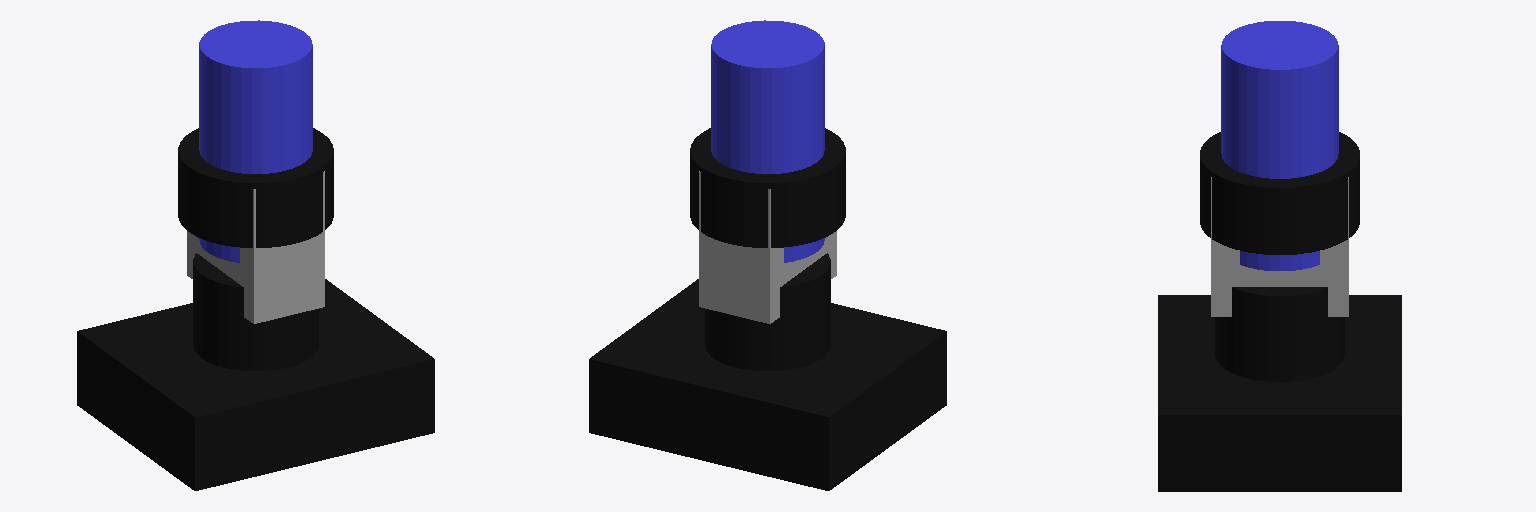
robot.urdf — evolved_robot:
<?xml version="1.0"?>
<robot name="evolved_robot">
  <material name="metal">
    <color rgba="0.7 0.7 0.7 1.0"/>
  </material>
  <material name="plastic">
    <color rgba="0.3 0.3 0.9 1.0"/>
  </material>
  <material name="rubber">
    <color rgba="0.1 0.1 0.1 1.0"/>
  </material>
  <material name="red">
    <color rgba="1.0 0.0 0.0 1.0"/>
  </material>
  <material name="wheel_material">
    <color rgba="0.2 0.2 0.2 1.0"/>
  </material>
  <link name="base_link">
    <visual>
      <geometry><box size="0.30973124463305235 0.2637592270063851 0.09137525855552422"/></geometry>
      <material name="rubber"/>
    </visual>
    <collision>
      <geometry><box size="0.30973124463305235 0.2637592270063851 0.09137525855552422"/></geometry>
    </collision>
    <inertial>
      <mass value="5.0"/>
      <inertia ixx="0.06493197308924557" ixy="0" ixz="0" 
               iyy="0.08690240148169052" iyz="0" 
               izz="0.1379186447774546"/>
    </inertial>
  </link>
  <link name="link1">
    <visual>
      <geometry><cylinder radius="0.07022127573045568" length="0.20604416309823792"/></geometry>
      <material name="rubber"/>
    </visual>
    <collision>
      <geometry><cylinder radius="0.07022127573045568" length="0.20604416309823792"/></geometry>
    </collision>
    <inertial>
      <mass value="0.5"/>
      <inertia ixx="0.004770606653540944" ixy="0" ixz="0" 
               iyy="0.004770606653540944" iyz="0" 
               izz="0.002465513782606342"/>
    </inertial>
  </link>
  <joint name="joint1" type="prismatic">
    <parent link="base_link"/>
    <child link="link1"/>
    <origin xyz="0 0 0.04568762927776211" rpy="0 0 0"/>
    <axis xyz="-0.6712321116053033 -0.10920155303055626 0.7331592413422886"/>
    <dynamics damping="0.4036131886502018" friction="0.1"/>
    <limit lower="-0.45198415874903025" upper="0.2996938549239752" effort="100" velocity="100"/>
  </joint>
  <link name="link2">
    <visual>
      <geometry><sphere radius="0.04774140146365198"/></geometry>
      <material name="rubber"/>
    </visual>
    <collision>
      <geometry><sphere radius="0.04774140146365198"/></geometry>
    </collision>
    <inertial>
      <mass value="0.5"/>
      <inertia ixx="0.0009116965654854366" ixy="0" ixz="0" 
               iyy="0.0009116965654854366" iyz="0" 
               izz="0.0009116965654854366"/>
    </inertial>
  </link>
  <joint name="joint2" type="fixed">
    <parent link="base_link"/>
    <child link="link2"/>
    <origin xyz="0 0 0.09568762927776212" rpy="0 0 0"/>
    <axis xyz="0.7994870752066272 -0.3189058024417348 -0.5090378234930545"/>
    <dynamics damping="0.32429681390972" friction="0.1"/>
  </joint>
  <link name="link3">
    <visual>
      <geometry><cylinder radius="0.037788071872525975" length="0.055289034378760475"/></geometry>
      <material name="plastic"/>
    </visual>
    <collision>
      <geometry><cylinder radius="0.037788071872525975" length="0.055289034378760475"/></geometry>
    </collision>
    <inertial>
      <mass value="0.5"/>
      <inertia ixx="0.000611724370838777" ixy="0" ixz="0" 
               iyy="0.000611724370838777" iyz="0" 
               izz="0.0007139691879215944"/>
    </inertial>
  </link>
  <joint name="joint3" type="fixed">
    <parent link="base_link"/>
    <child link="link3"/>
    <origin xyz="0 0 0.14568762927776213" rpy="0 0 0"/>
    <axis xyz="0.885884819037277 -0.14288856271358436 0.44135127284843867"/>
    <dynamics damping="0.6617432306237528" friction="0.1"/>
  </joint>
  <link name="link4">
    <visual>
      <geometry><box size="0.09246010463648308 0.15026105879309354 0.16692978989059037"/></geometry>
      <material name="metal"/>
    </visual>
    <collision>
      <geometry><box size="0.09246010463648308 0.15026105879309354 0.16692978989059037"/></geometry>
    </collision>
    <inertial>
      <mass value="0.5"/>
      <inertia ixx="0.00420366171187818" ixy="0" ixz="0" 
               iyy="0.0030345354751921704" iyz="0" 
               izz="0.002593938061584243"/>
    </inertial>
  </link>
  <joint name="joint4" type="revolute">
    <parent link="base_link"/>
    <child link="link4"/>
    <origin xyz="0 0 0.19568762927776212" rpy="0 0 0"/>
    <axis xyz="0.7103423009173693 -0.46365404839060986 -0.5295646692694062"/>
    <dynamics damping="0.3040877062144236" friction="0.1"/>
    <limit lower="-1.5929920037548284" upper="2.0410000000000004" effort="100" velocity="100"/>
  </joint>
  <link name="link5">
    <visual>
      <geometry><cylinder radius="0.08721994617563467" length="0.0802752767765072"/></geometry>
      <material name="rubber"/>
    </visual>
    <collision>
      <geometry><cylinder radius="0.08721994617563467" length="0.0802752767765072"/></geometry>
    </collision>
    <inertial>
      <mass value="0.5"/>
      <inertia ixx="0.002438839757848888" ixy="0" ixz="0" 
               iyy="0.002438839757848888" iyz="0" 
               izz="0.0038036595054403042"/>
    </inertial>
  </link>
  <joint name="joint5" type="prismatic">
    <parent link="base_link"/>
    <child link="link5"/>
    <origin xyz="0 0 0.2456876292777621" rpy="0 0 0"/>
    <axis xyz="-0.832632235254255 0.0 0.5538262911920153"/>
    <dynamics damping="0.3192390020596607" friction="0.1"/>
    <limit lower="-3.0024683931493623" upper="0.31400000000000006" effort="100" velocity="100"/>
  </joint>
  <link name="link6">
    <visual>
      <geometry><cylinder radius="0.06346534658035433" length="0.24130320195547167"/></geometry>
      <material name="plastic"/>
    </visual>
    <collision>
      <geometry><cylinder radius="0.06346534658035433" length="0.24130320195547167"/></geometry>
    </collision>
    <inertial>
      <mass value="0.5"/>
      <inertia ixx="0.005859232160304719" ixy="0" ixz="0" 
               iyy="0.005859232160304719" iyz="0" 
               izz="0.002013925108282246"/>
    </inertial>
  </link>
  <joint name="joint6" type="fixed">
    <parent link="base_link"/>
    <child link="link6"/>
    <origin xyz="0 0 0.2956876292777621" rpy="0 0 0"/>
    <axis xyz="0.6305133116292092 0.1405575344390185 0.7633456251075208"/>
    <dynamics damping="0.2025334459637101" friction="0.1"/>
  </joint>
  <link name="link7">
    <visual>
      <geometry><sphere radius="0.05156707607986047"/></geometry>
      <material name="plastic"/>
    </visual>
    <collision>
      <geometry><sphere radius="0.05156707607986047"/></geometry>
    </collision>
    <inertial>
      <mass value="0.5"/>
      <inertia ixx="0.001063665334170447" ixy="0" ixz="0" 
               iyy="0.001063665334170447" iyz="0" 
               izz="0.001063665334170447"/>
    </inertial>
  </link>
  <joint name="joint7" type="fixed">
    <parent link="base_link"/>
    <child link="link7"/>
    <origin xyz="0 0 0.34568762927776214" rpy="0 0 0"/>
    <axis xyz="-0.9362728796917996 0.050194514128967964 -0.3476688158362522"/>
    <dynamics damping="0.1" friction="0.1"/>
  </joint>
</robot>

--- What the picture shows (computed from the rendered views, not written in the file) ---
The picture shows the robot from 3 angles, left to right: view 1: azimuth 30°, elevation 25°; view 2: azimuth 150°, elevation 25°; view 3: azimuth 270°, elevation 25°; orthographic projection.
Model evolved_robot with 8 links and 7 joints (1 revolute, 2 prismatic, 4 fixed), rooted at base_link, posed every joint at zero.
Visible links, largest first — view 1: base_link, link6, link5, link1, link4; view 2: base_link, link6, link5, link1, link4; view 3: base_link, link6, link5, link1, link4.
Link boxes in pixels (x1,y1,x2,y2): base_link: (77, 279, 434, 490); link6: (199, 20, 312, 262); link5: (178, 128, 333, 247); link1: (193, 253, 318, 370); link4: (187, 171, 324, 323); base_link: (589, 279, 946, 490); link6: (711, 20, 824, 262); link5: (690, 128, 845, 247); link1: (705, 253, 830, 370); link4: (699, 171, 836, 323); base_link: (1158, 295, 1401, 491); link6: (1221, 21, 1338, 270); link5: (1200, 132, 1359, 254); link1: (1215, 287, 1344, 381); link4: (1211, 177, 1348, 316).
Bounding box of the posed robot: 0.3097 × 0.2638 × 0.4737 m (x, y, z).
Geometry: primitives only (box / cylinder / sphere), no mesh files.